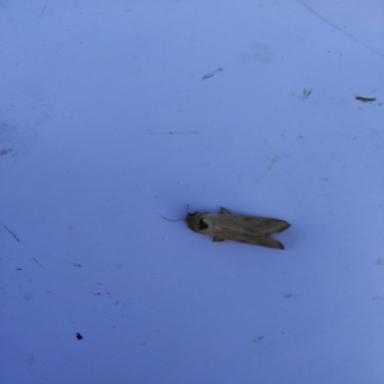abw: (159, 191, 293, 259)
